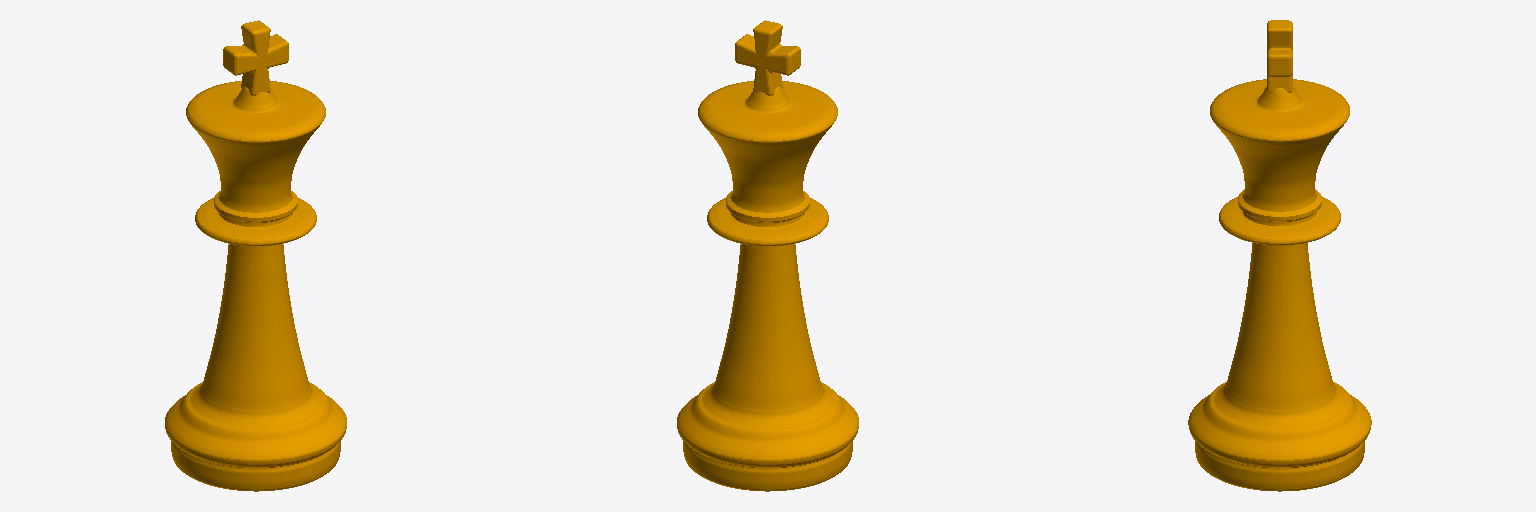
URDF robot description (king):
<?xml version='1.0' encoding='utf-8'?>
<robot name="king"><link name="king"><inertial><origin xyz="-7.833670528556713e-14 -6.841838299502168e-14 0.01534444513118541" rpy="0 0 0" /><mass value="0.003" /><inertia ixx="5.802100452566156e-07" iyy="5.802100452566156e-07" izz="1.479200100469591e-07" ixy="0" ixz="0" iyz="0" /></inertial><visual><geometry><mesh filename="king.obj" /></geometry></visual><collision><geometry><mesh filename="collision/king_00.obj" /></geometry></collision><collision><geometry><mesh filename="collision/king_01.obj" /></geometry></collision><collision><geometry><mesh filename="collision/king_02.obj" /></geometry></collision><collision><geometry><mesh filename="collision/king_03.obj" /></geometry></collision><collision><geometry><mesh filename="collision/king_04.obj" /></geometry></collision><collision><geometry><mesh filename="collision/king_05.obj" /></geometry></collision><collision><geometry><mesh filename="collision/king_06.obj" /></geometry></collision><collision><geometry><mesh filename="collision/king_07.obj" /></geometry></collision><collision><geometry><mesh filename="collision/king_08.obj" /></geometry></collision><collision><geometry><mesh filename="collision/king_09.obj" /></geometry></collision><collision><geometry><mesh filename="collision/king_10.obj" /></geometry></collision><collision><geometry><mesh filename="collision/king_11.obj" /></geometry></collision><collision><geometry><mesh filename="collision/king_12.obj" /></geometry></collision><collision><geometry><mesh filename="collision/king_13.obj" /></geometry></collision><collision><geometry><mesh filename="collision/king_14.obj" /></geometry></collision><collision><geometry><mesh filename="collision/king_15.obj" /></geometry></collision><collision><geometry><mesh filename="collision/king_16.obj" /></geometry></collision><collision><geometry><mesh filename="collision/king_17.obj" /></geometry></collision></link></robot>

--- Render facts (derived) ---
The picture shows the robot from 3 angles, left to right: view 1: azimuth 30°, elevation 25°; view 2: azimuth 150°, elevation 25°; view 3: azimuth 270°, elevation 25°; orthographic projection.
Robot: king — 1 links, 0 joints (none); root link king; default pose: every joint at zero.
Visible links, largest first — view 1: king; view 2: king; view 3: king.
Boxes of the visible links, <box> form: king: <box>165,20,346,491</box>; king: <box>677,20,858,491</box>; king: <box>1188,20,1371,491</box>.
Size in the robot's own frame: 0.0172 by 0.0172 by 0.045 metres.
1 mesh visuals loaded from 1 distinct referenced files (1 OBJ).
